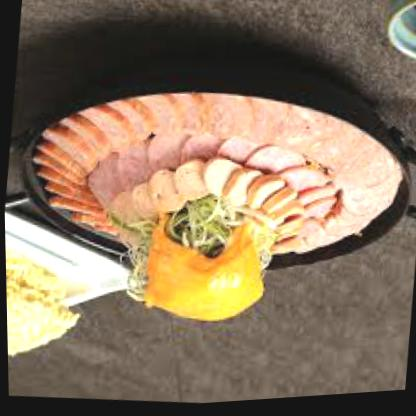budaejjigae: (28, 72, 412, 315)
